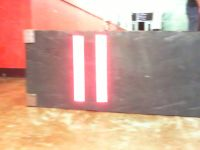switch: (95, 34, 109, 102), (72, 34, 85, 102)
